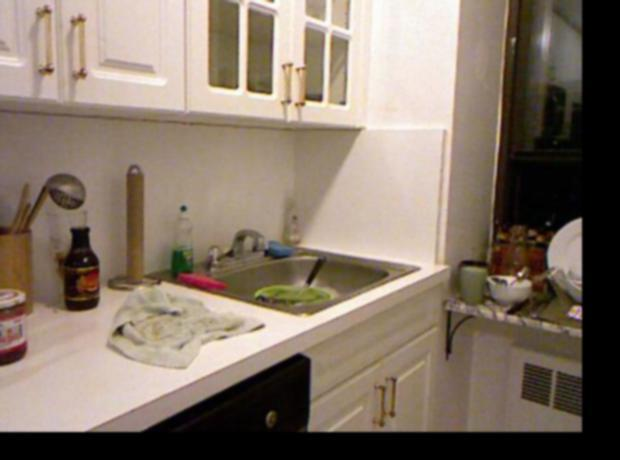Lavaplatos: (190, 204, 426, 321)
